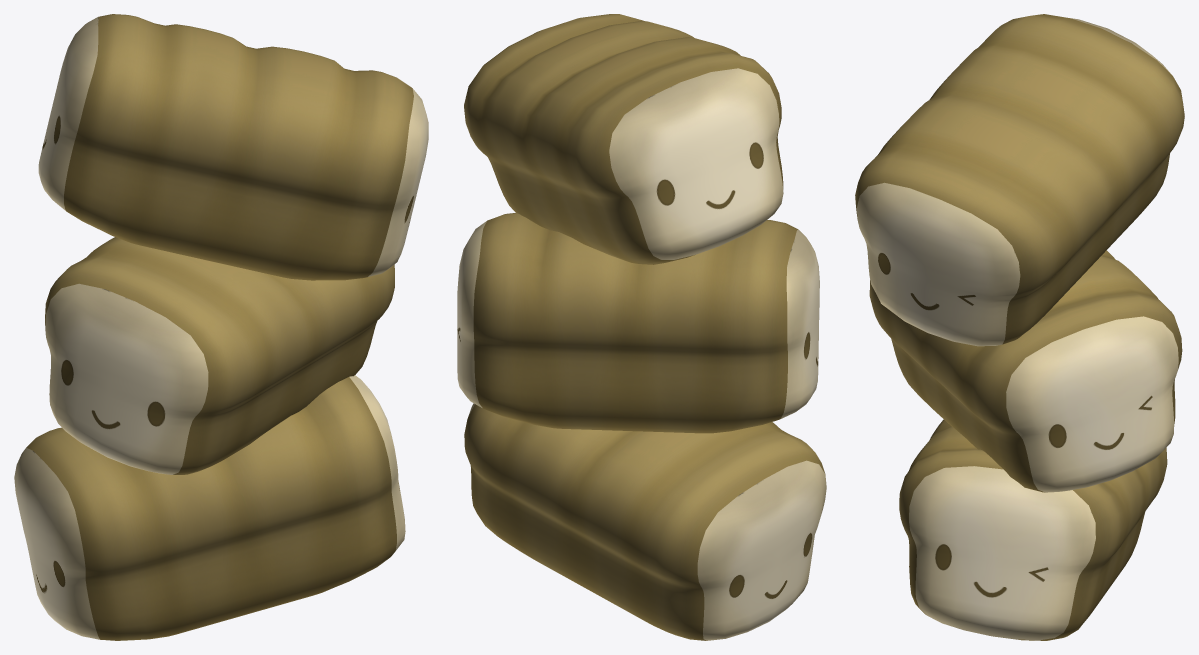
File: Panecitos.obj
The picture shows the model from 3 angles, left to right: view 1: azimuth 30°, elevation 25°; view 2: azimuth 150°, elevation 25°; view 3: azimuth 270°, elevation 25°; orthographic projection. The views are drawn at different scales.
Parts seen in each view (by area): view 1: polySurface1; view 2: polySurface1; view 3: polySurface1.
Part boxes in pixels (x1,y1,x2,y2): polySurface1: (14,14,428,640); polySurface1: (457,14,826,640); polySurface1: (855,14,1184,640).
Bounding box in the file's own units: 1.47 × 2.29 × 1.22.
Materials: 1 (1 with a texture image).
